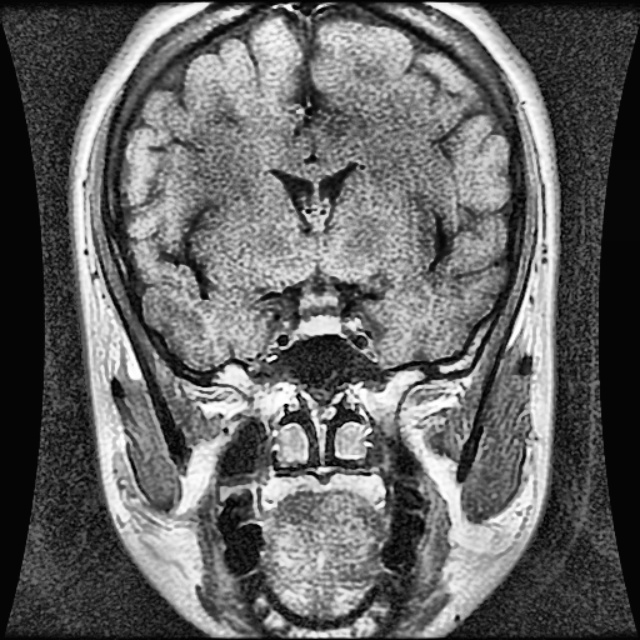Pituitary: (300, 312, 344, 335)
